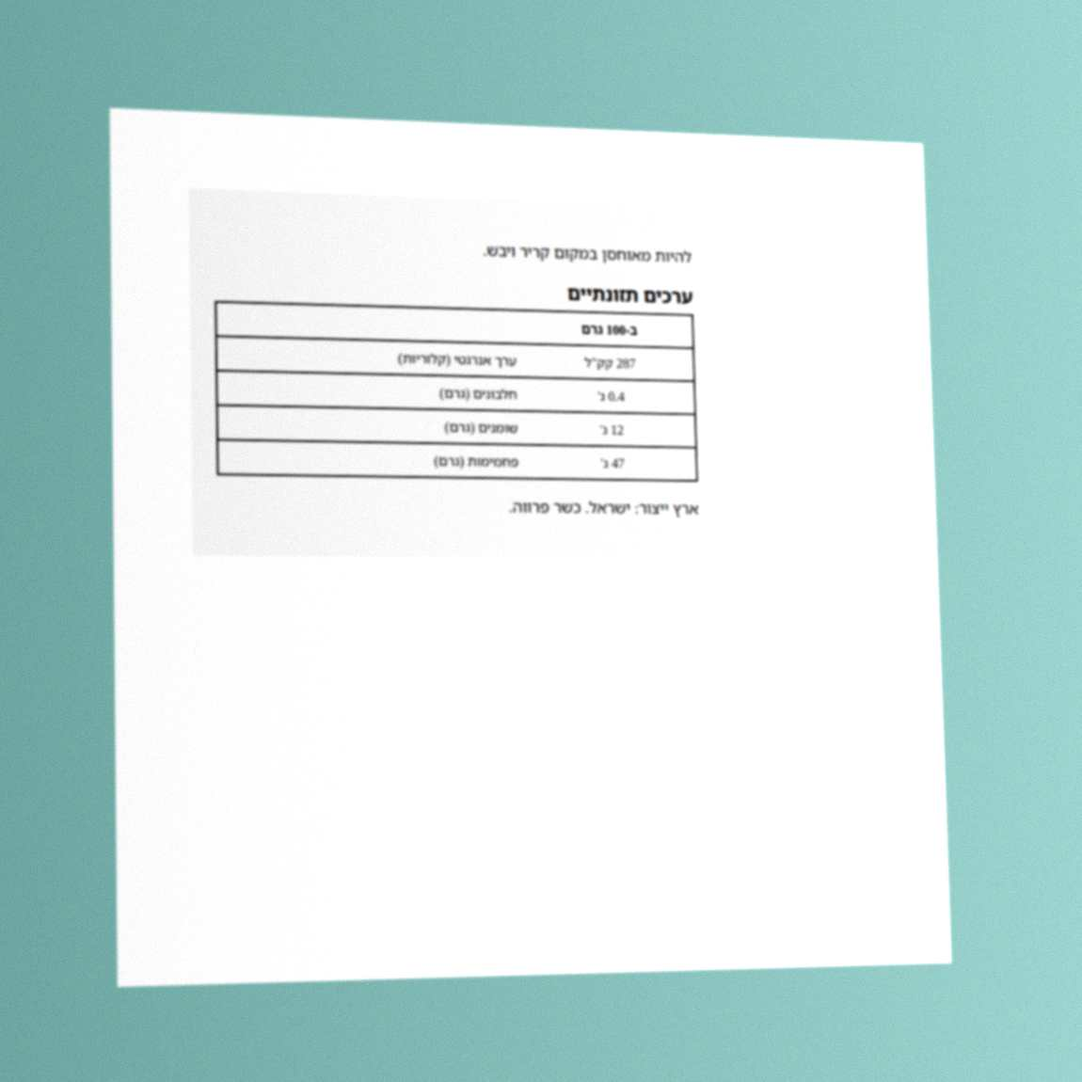carbs: (598, 451, 627, 475)
energy: (582, 351, 638, 375)
fat: (598, 418, 626, 441)
protein: (595, 384, 627, 408)
